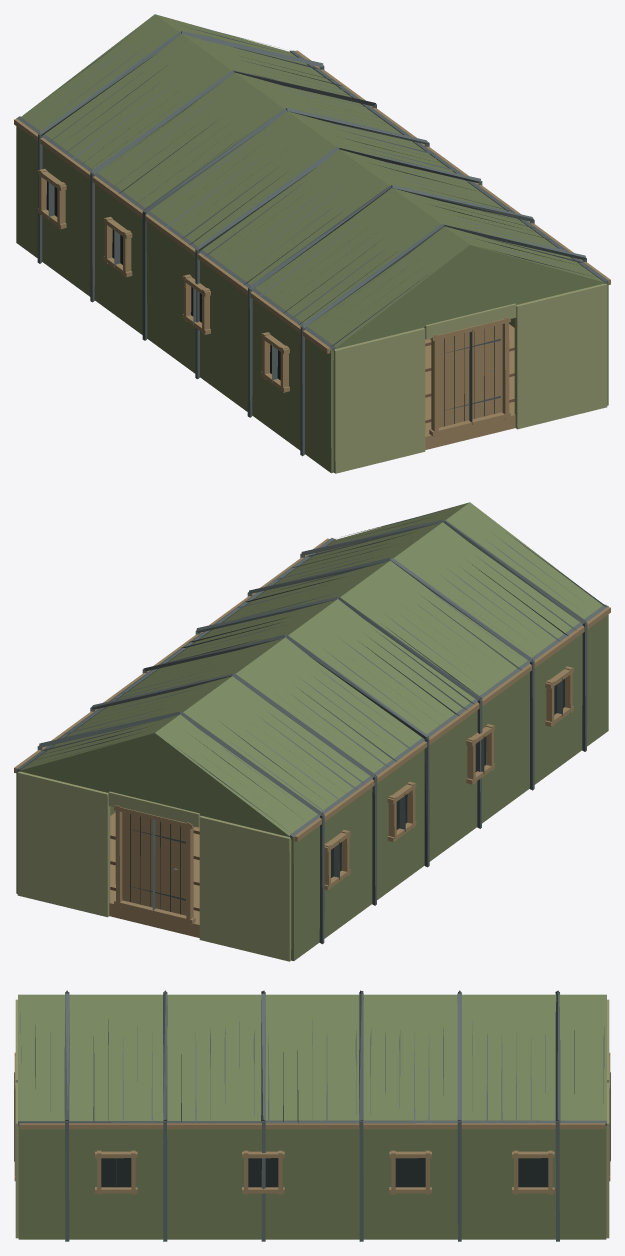
File: barracks_low.glb
3 renders of one model, top to bottom at view 1: azimuth 30°, elevation 25°; view 2: azimuth 150°, elevation 25°; view 3: azimuth 270°, elevation 25°, orthographic. The views are drawn at different scales.
Parts seen in each view (by area): view 1: barracks.001; view 2: barracks.001; view 3: barracks.001.
Boxes of the visible parts, x1=… form: barracks.001: x1=14, y1=14, x2=610, y2=473; barracks.001: x1=14, y1=502, x2=610, y2=961; barracks.001: x1=14, y1=990, x2=610, y2=1241.
Bounding box in the file's own units: 6.4 × 4.15 × 12.17.
